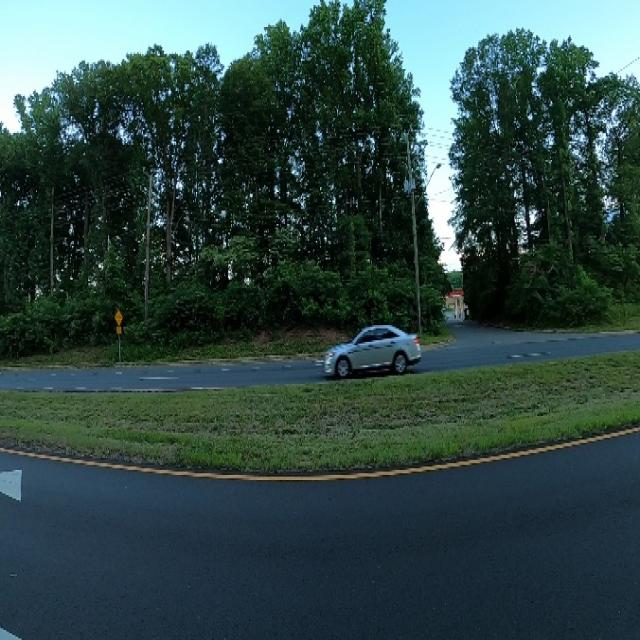cars: (316, 319, 426, 384)
